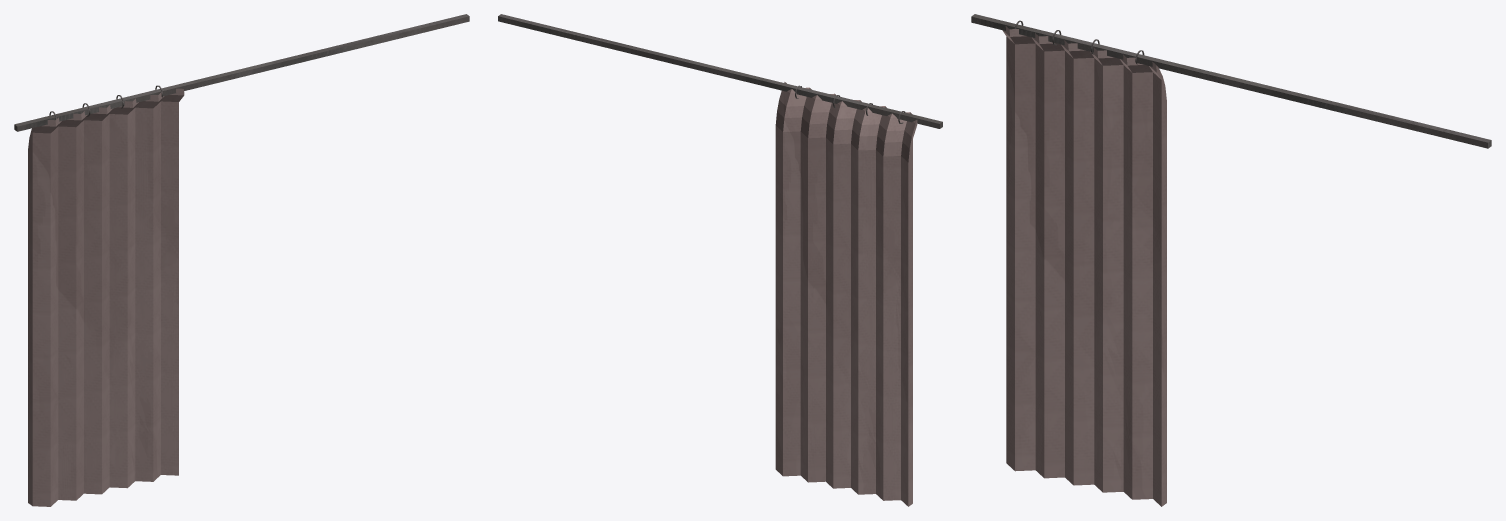
The model's file is M-Curtainflip.fbx.
3 views of the same model, side by side, from view 1: azimuth 30°, elevation 25°; view 2: azimuth 150°, elevation 25°; view 3: azimuth 330°, elevation 25° (orthographic). The views are drawn at different scales.
Parts seen in each view (by area): view 1: Cube.002, Cube.003; view 2: Cube.002, Cube.003; view 3: Cube.002, Cube.003.
Boxes of the visible parts, x1=… form: Cube.002: x1=28, y1=88, x2=184, y2=506; Cube.003: x1=14, y1=14, x2=469, y2=131; Cube.002: x1=775, y1=82, x2=917, y2=506; Cube.003: x1=498, y1=14, x2=942, y2=128; Cube.002: x1=1002, y1=26, x2=1166, y2=506; Cube.003: x1=971, y1=14, x2=1491, y2=148.
Bounding box in the file's own units: 221 × 12.47 × 184.
3 materials, 3 textured.
